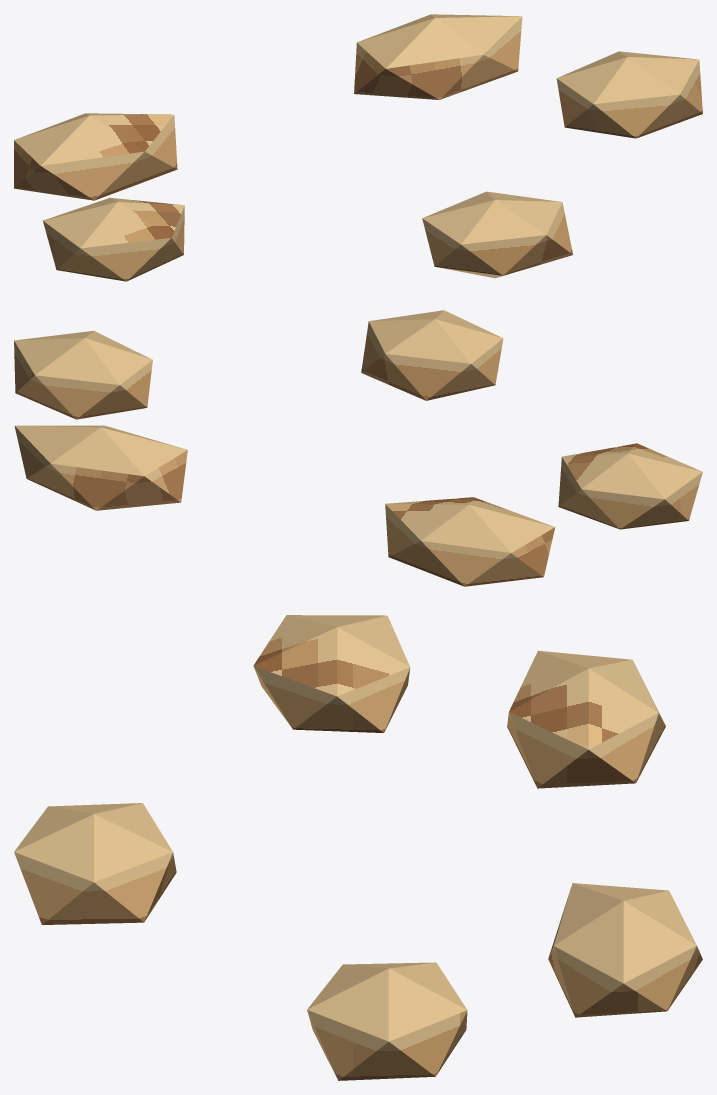
Rendered from enfeite_seixos.glb.
3 renders of one model, top to bottom at view 1: azimuth 30°, elevation 25°; view 2: azimuth 150°, elevation 25°; view 3: azimuth 270°, elevation 25°, orthographic. The views are drawn at different scales.
Parts seen in each view (by area): view 1: deserto_enfeite_seixos; view 2: deserto_enfeite_seixos; view 3: deserto_enfeite_seixos.
Boxes of the visible parts, box(x1,y1,x2,y2) form: deserto_enfeite_seixos: box(14, 14, 702, 281); deserto_enfeite_seixos: box(14, 310, 702, 586); deserto_enfeite_seixos: box(14, 615, 702, 1080).
Bounding box in the file's own units: 0.4473 × 0.0523 × 0.3027.
1 material, 1 textured.
